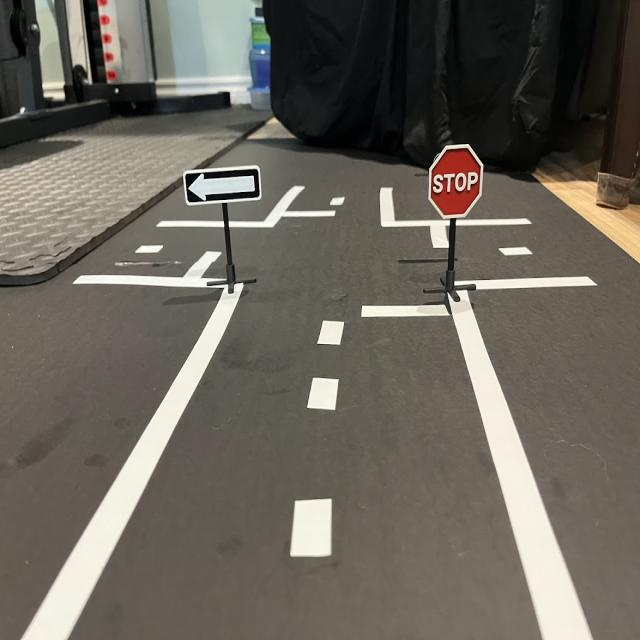sign_oneway_left: (185, 166, 264, 207)
sign_stop: (429, 146, 482, 216)
